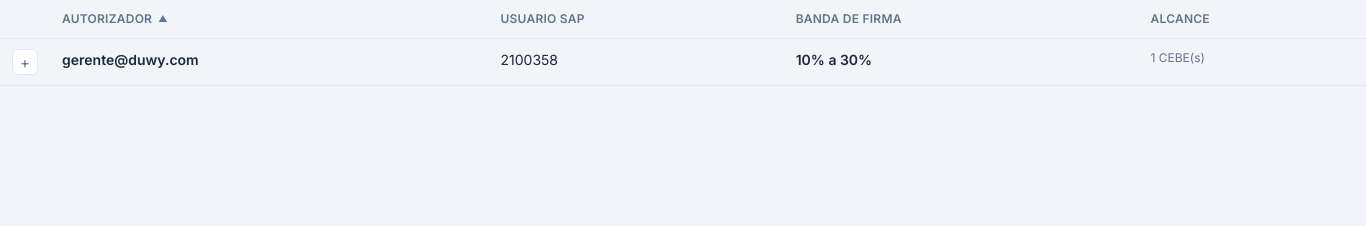
Scenario: AuthorizersTable › el detalle muestra el nombre del CEBE y no solo el codigo
Click the button named "Ver detalle".
click(25, 62)  # box [12, 49, 38, 75]
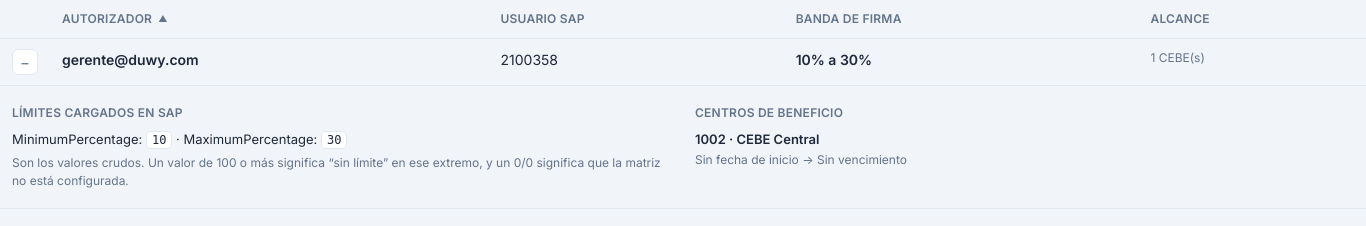
Result: the text "1002 · CEBE Central" is shown at [695, 131, 819, 147]
